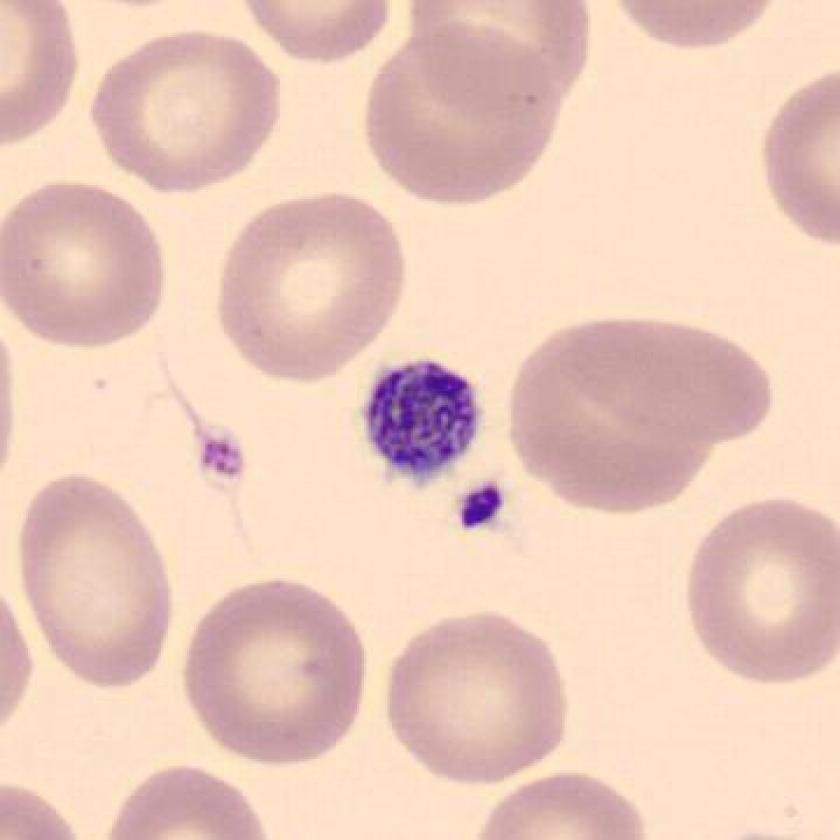platelets: (358, 355, 489, 496), (188, 425, 260, 496), (444, 478, 519, 540)
